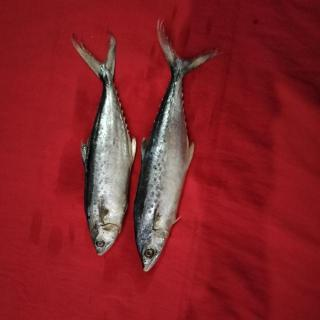Ikan: (67, 20, 226, 281)
